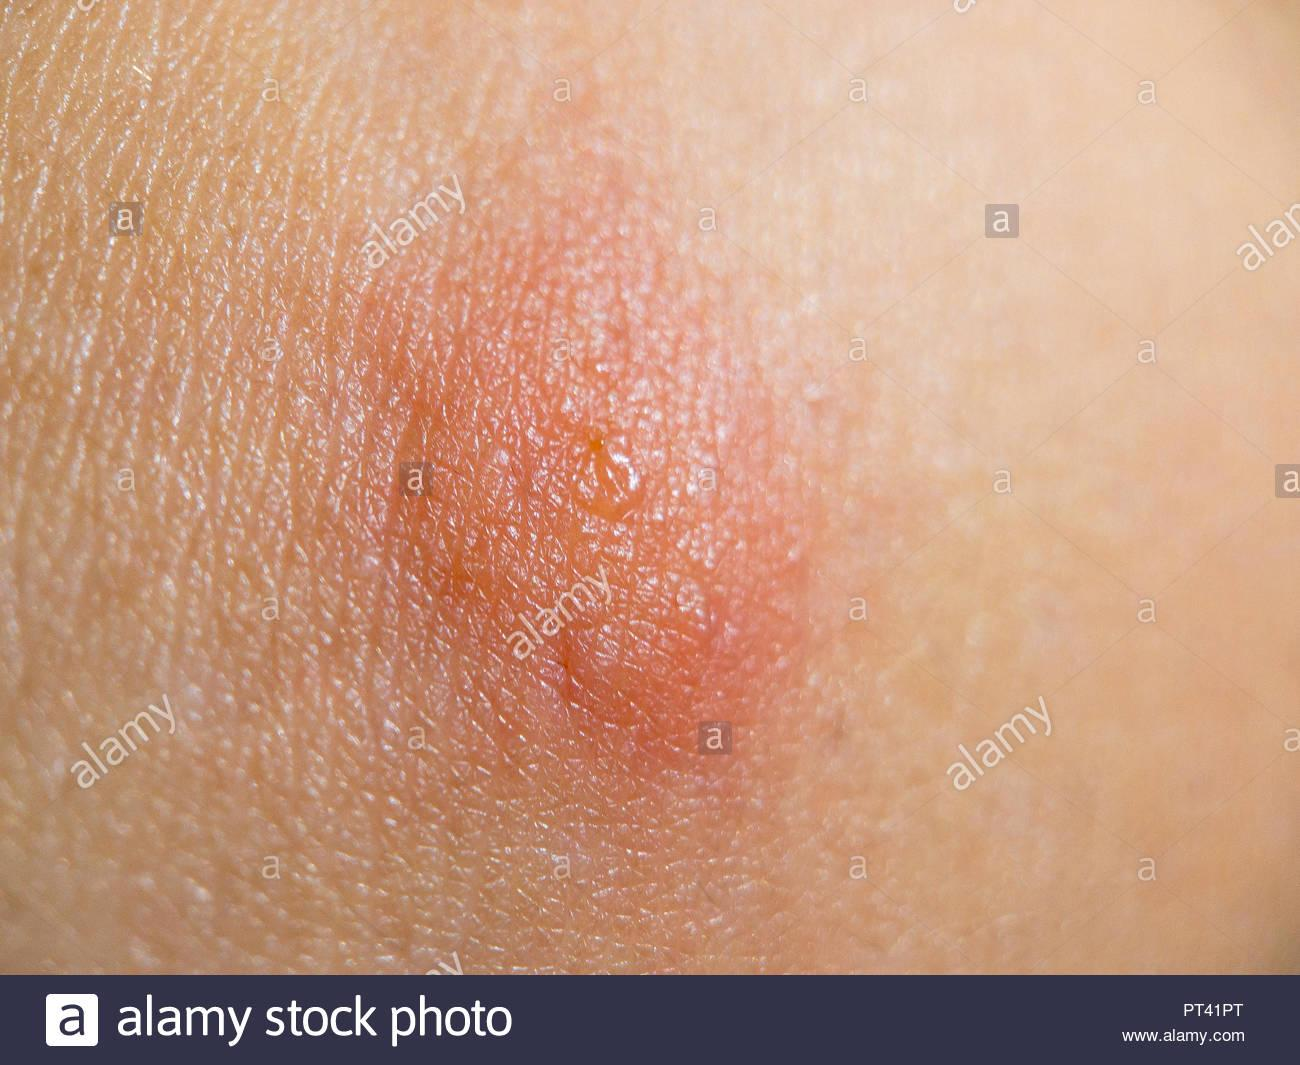Mosquito: (317, 116, 859, 825)
